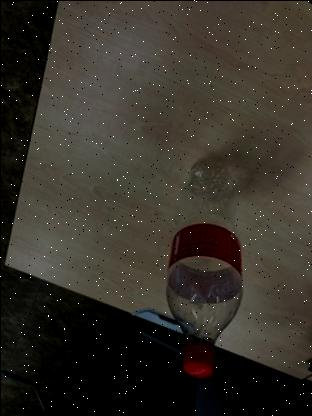Plastic Bottle: (162, 149, 244, 381)
